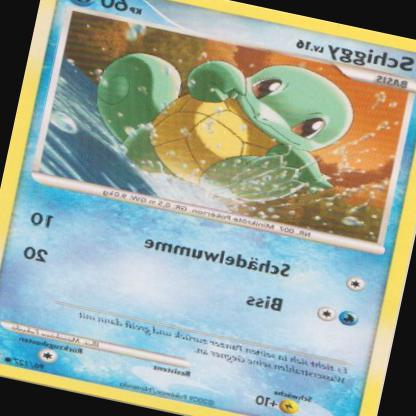Squirtle: (68, 20, 376, 224)
